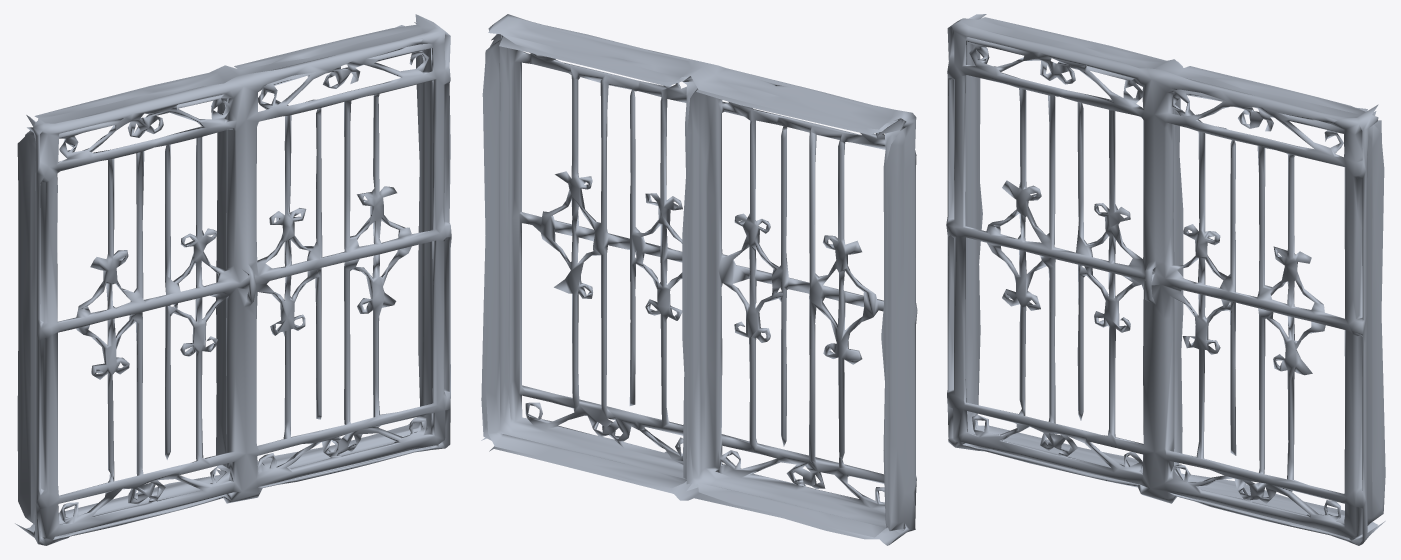
Rendered from window2.glb.
The picture shows the model from 3 angles, left to right: view 1: azimuth 30°, elevation 25°; view 2: azimuth 150°, elevation 25°; view 3: azimuth 330°, elevation 25°; orthographic projection.
Parts seen in each view (by area): view 1: window-grill-2----; view 2: window-grill-2----; view 3: window-grill-2----.
Boxes of the visible parts, box(x1,y1,x2,y2) form: window-grill-2----: box(15, 14, 451, 545); window-grill-2----: box(481, 14, 917, 545); window-grill-2----: box(946, 14, 1385, 545).
Bounding box in the file's own units: 1.96 × 1.92 × 0.2934.
